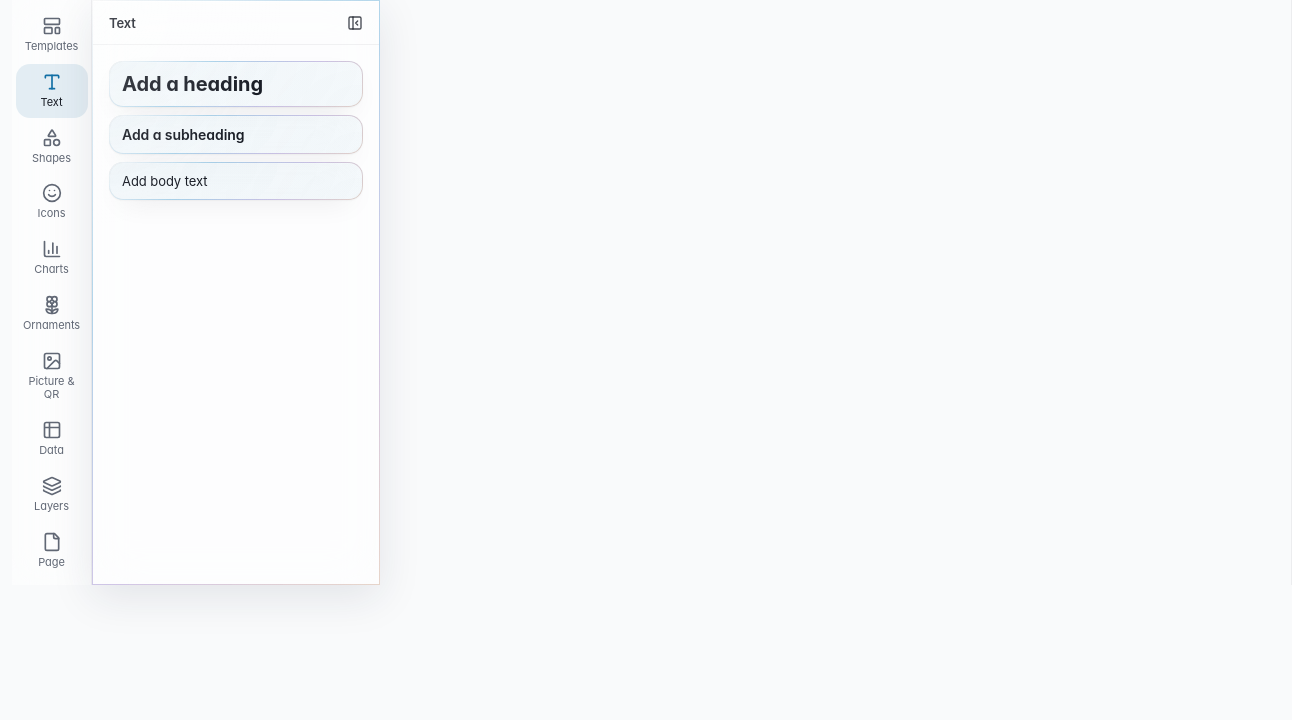
Test: elements panel › hides the panel behind the rail and opens it again on the chosen category
Click the button named "Hide panel".
click(355, 22)  # box left=339, top=6, right=371, bottom=38
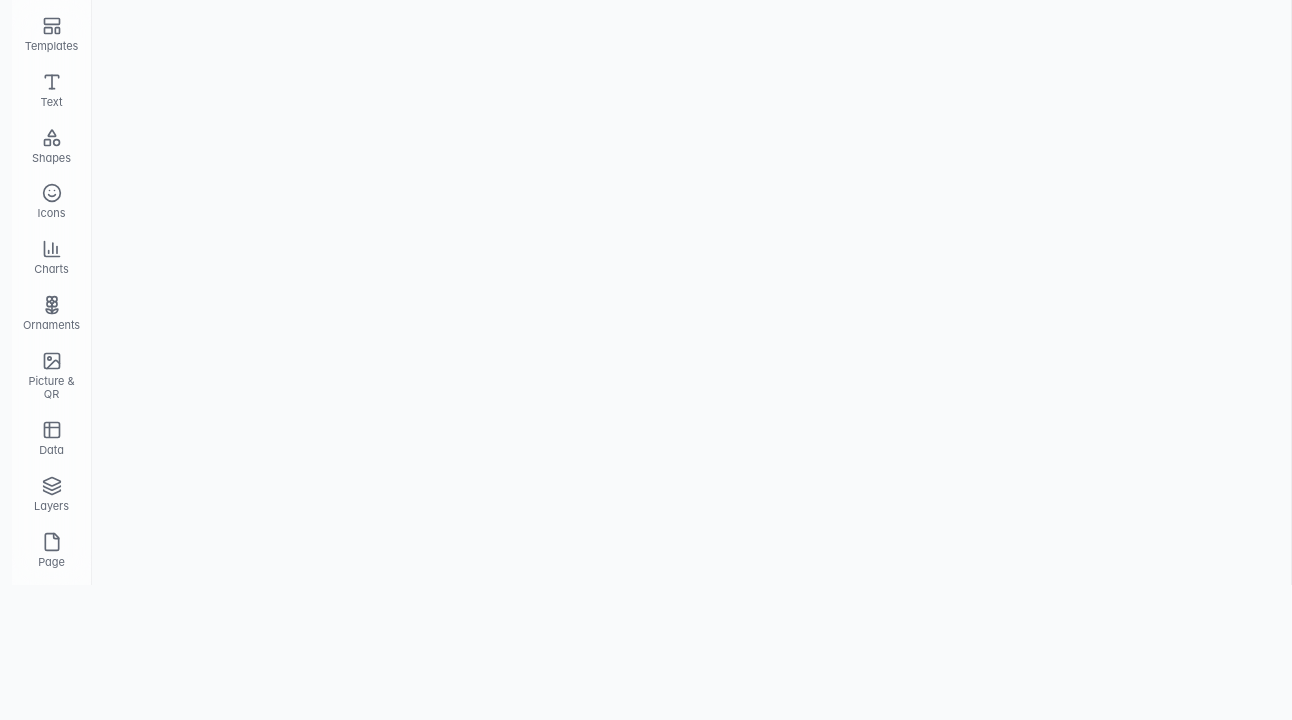
Click the tab "Shapes".
click(52, 146)  # box left=16, top=120, right=88, bottom=173
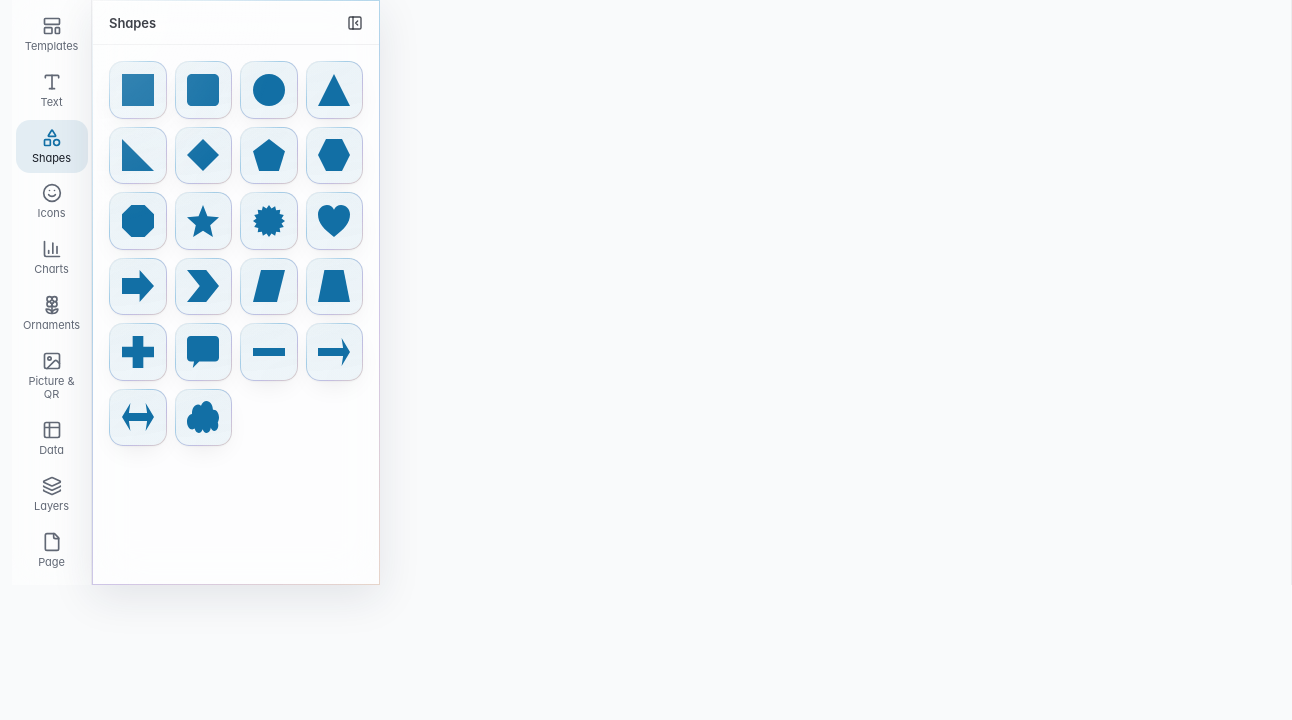
Now the button named "Rectangle" is shown, box left=109, top=61, right=166, bottom=118
